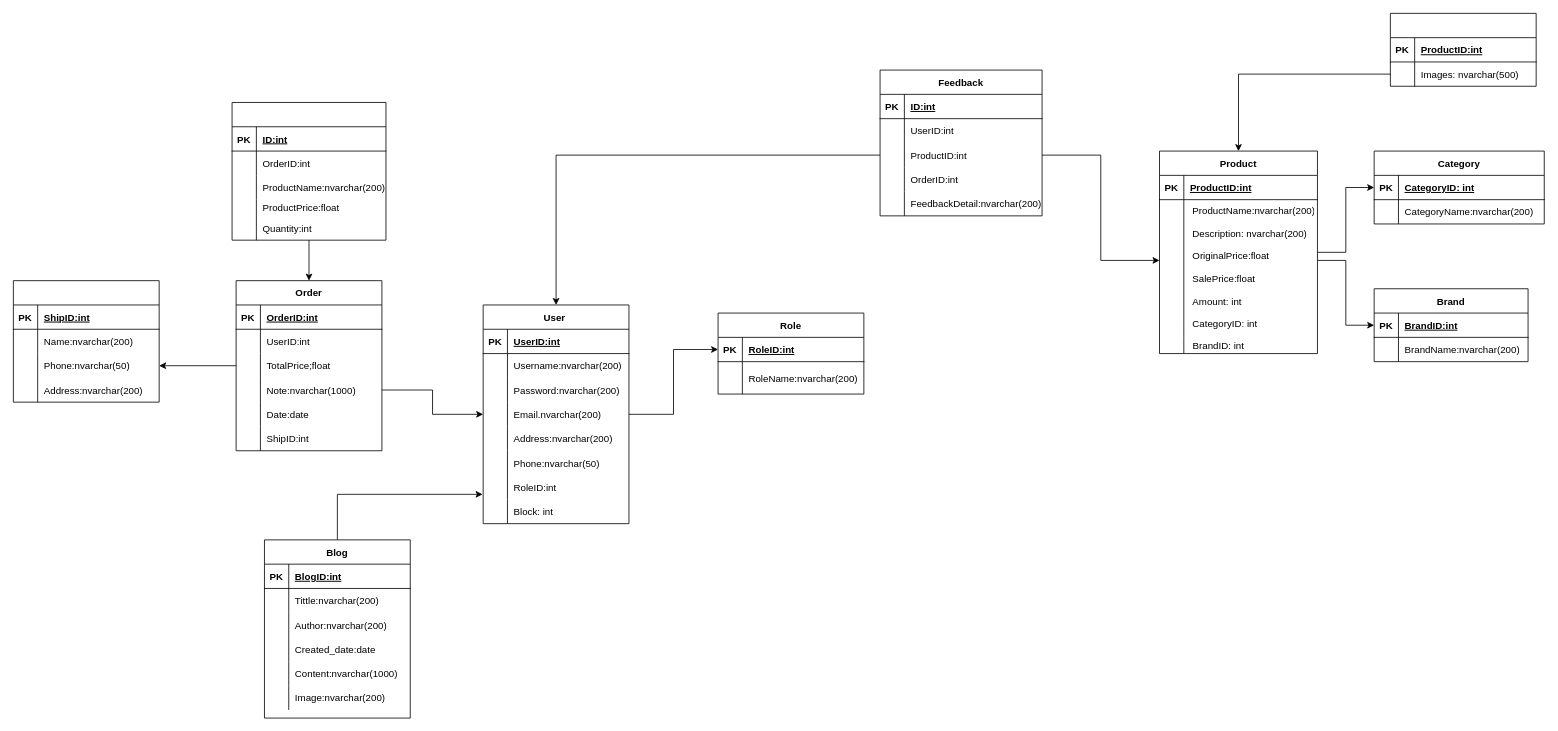
The diagram is 1558 pixels wide and 731 high, and some of its shapes have lost their labels. Each missing label, with the box of its shape:
OrderDetail: (231, 102, 386, 240)
ProductImg: (1390, 13, 1536, 86)
Shipping: (13, 280, 159, 402)
